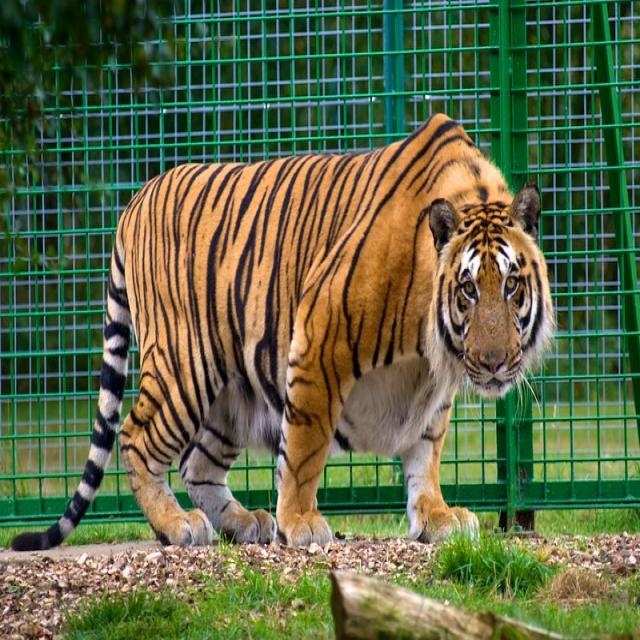Tiger: (43, 117, 557, 545)
